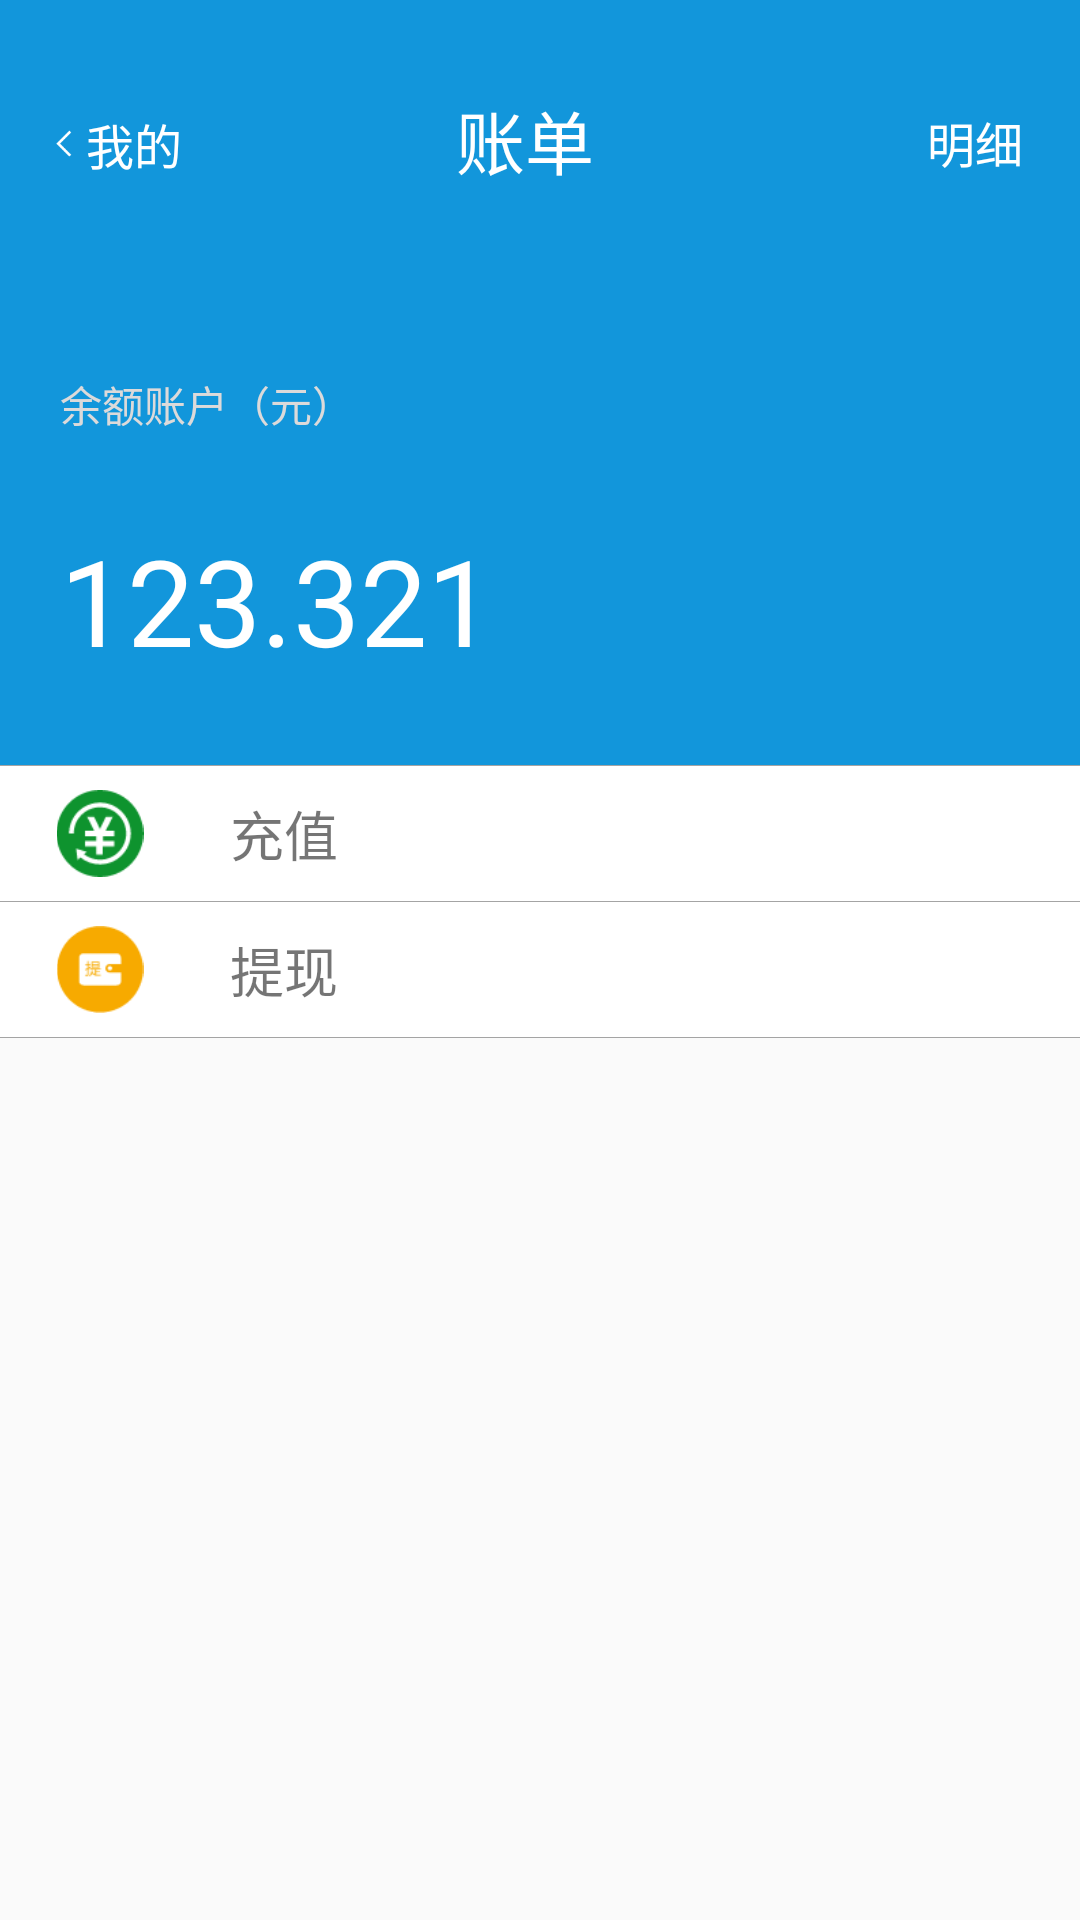

Icons on this 1080x1920 Android screen, each with the point to tap as (x=x, y=y):
fanhui: (x=63, y=143)
recharge: (x=100, y=833)
